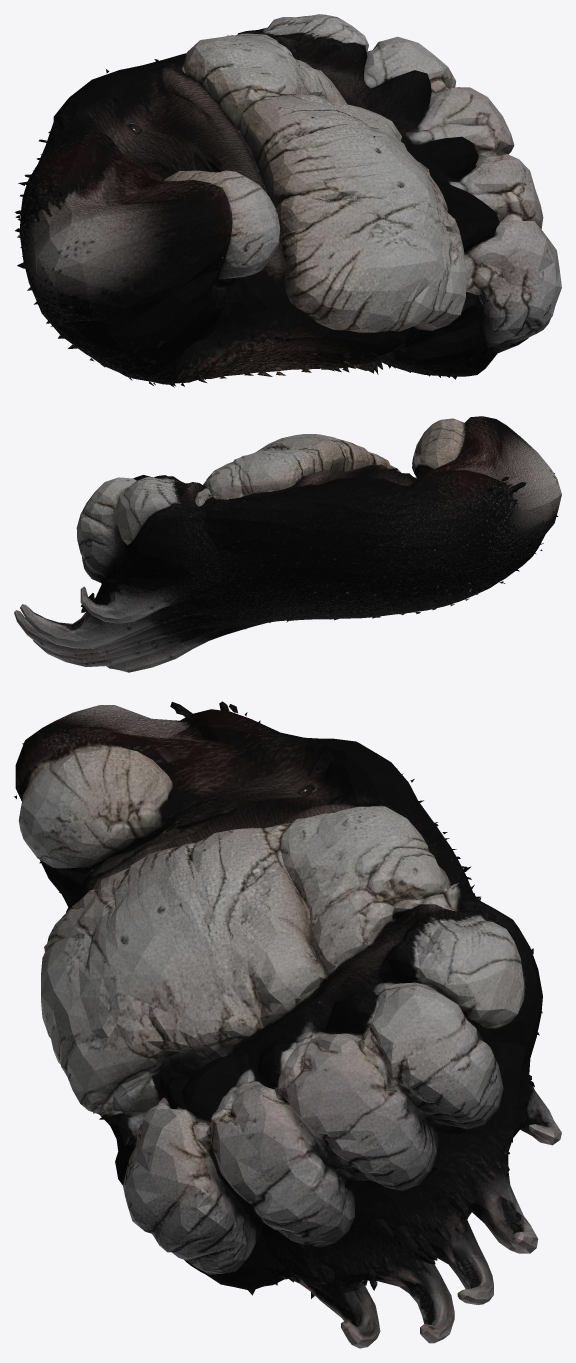
Rendered from KUMANOTE.obj.
3 renders of one model, top to bottom at view 1: azimuth 30°, elevation 25°; view 2: azimuth 150°, elevation 25°; view 3: azimuth 270°, elevation 25°, orthographic. The views are drawn at different scales.
Parts seen in each view (by area): view 1: tripo_node_a73575f7-40ac-41df-9b8c-b071f2607912; view 2: tripo_node_a73575f7-40ac-41df-9b8c-b071f2607912; view 3: tripo_node_a73575f7-40ac-41df-9b8c-b071f2607912.
Part boxes in pixels (box(x1,y1,x2,y2)): tripo_node_a73575f7-40ac-41df-9b8c-b071f2607912: box(14, 14, 561, 387); tripo_node_a73575f7-40ac-41df-9b8c-b071f2607912: box(14, 416, 561, 672); tripo_node_a73575f7-40ac-41df-9b8c-b071f2607912: box(14, 701, 561, 1348).
Size of the model in its own units: 0.9768 by 0.5384 by 0.6672.
1 material, 1 textured.
